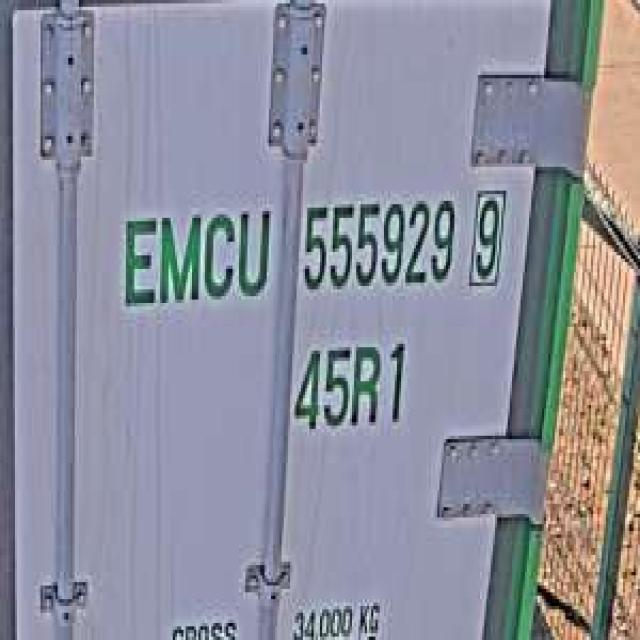dv: (465, 180, 510, 293)
owner: (113, 191, 275, 313)
serial: (296, 184, 458, 303)
size: (290, 330, 412, 439)
